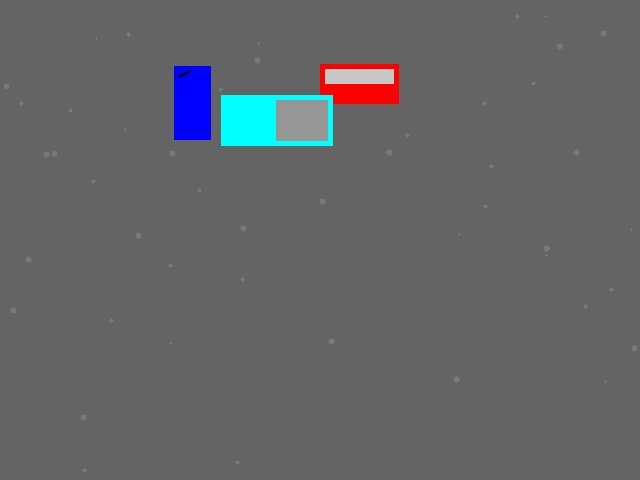car: (320, 64, 398, 103)
motorcycle: (174, 66, 210, 139)
truck: (221, 95, 332, 145)
